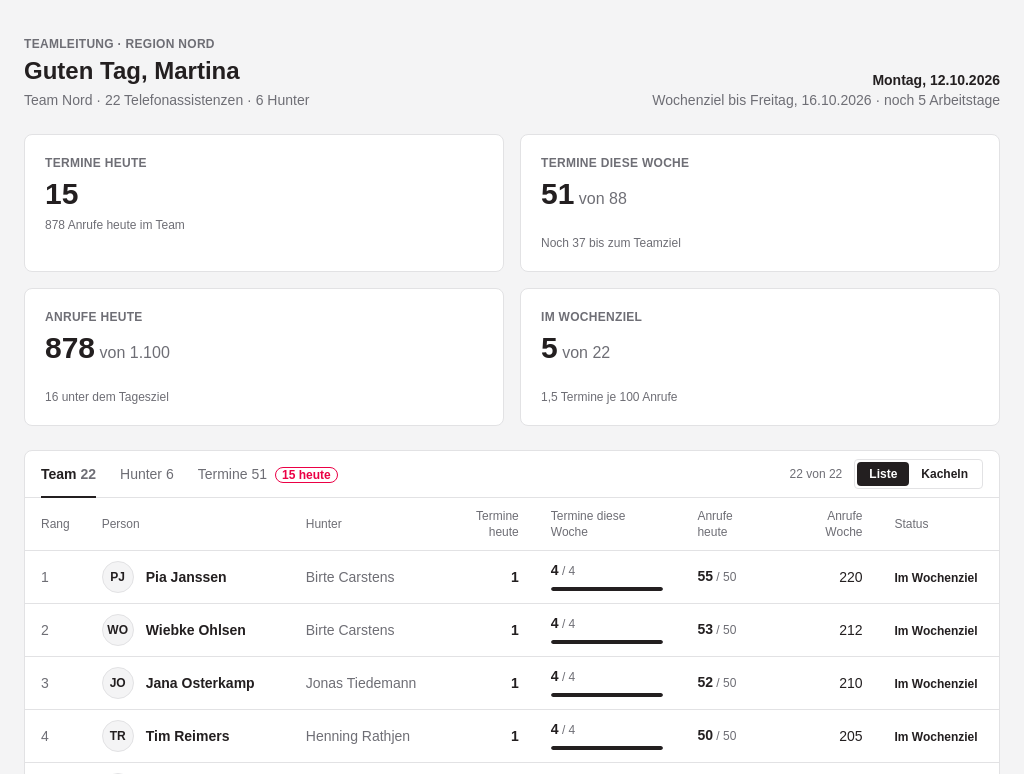
Test: Dashboard Teamleitung › zeigt die Hunter mit Gebiet
This screenshot has width=1024, height=774.
Step 1. Click the button "Hunter 6" → (147, 474), box [120,452,174,498]
(page scrolled)
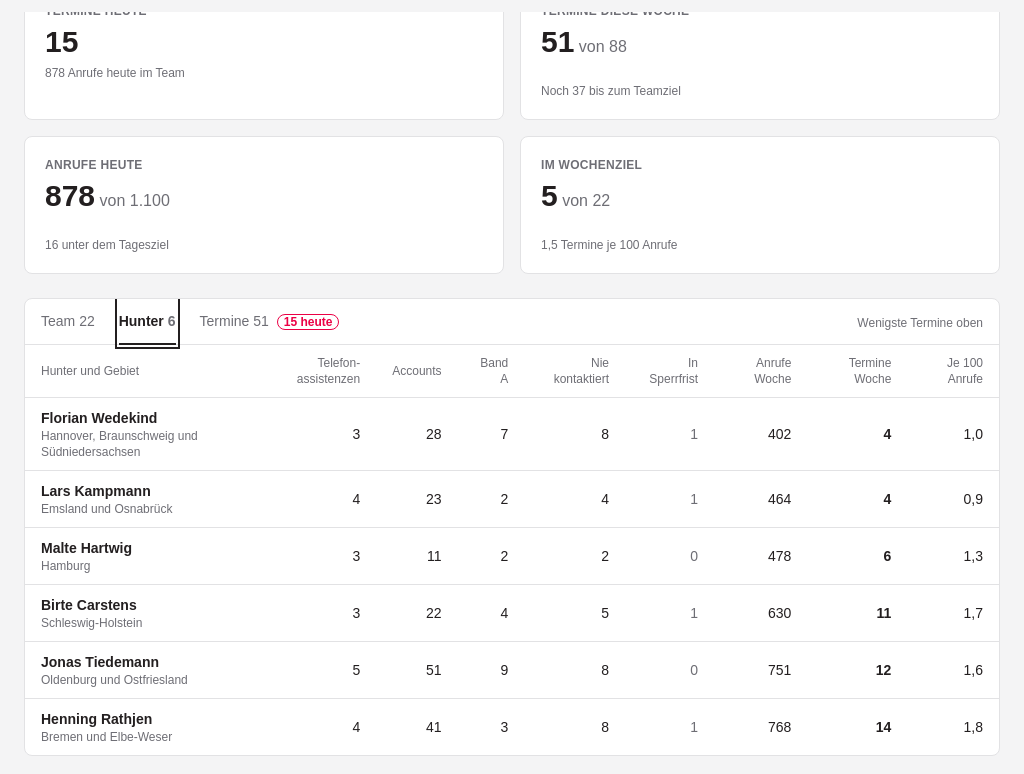
Check: the text "Oldenburg und Ostfriesland" is shown, box [41,673,188,687]
